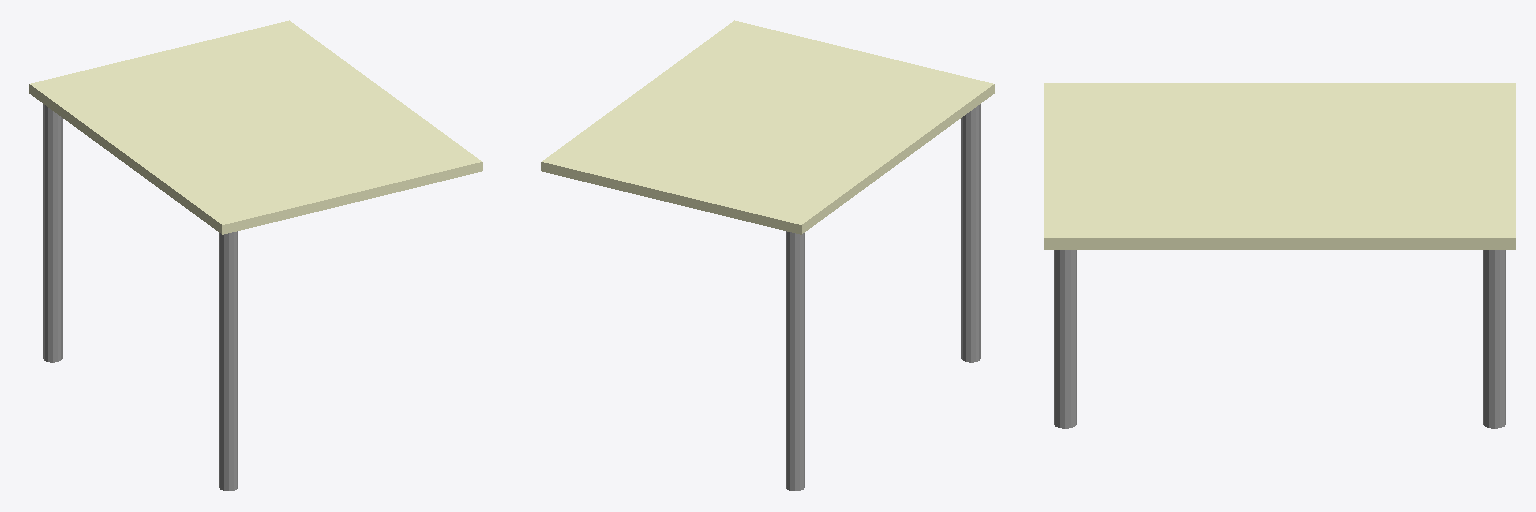
robot.urdf — room73b2-desk-2:
<?xml version="1.0"?>
<robot name="room73b2-desk-2"
       xmlns:xi="http://www.w3.org/2001/XInclude"
       xmlns:gazebo="http://playerstage.sourceforge.net/gazebo/xmlschema/#gz"
       xmlns:model="http://playerstage.sourceforge.net/gazebo/xmlschema/#model"
       xmlns:sensor="http://playerstage.sourceforge.net/gazebo/xmlschema/#sensor"
       xmlns:body="http://playerstage.sourceforge.net/gazebo/xmlschema/#body"
       xmlns:geom="http://playerstage.sourceforge.net/gazebo/xmlschema/#geom"
       xmlns:joint="http://playerstage.sourceforge.net/gazebo/xmlschema/#joint"
       xmlns:interface="http://playerstage.sourceforge.net/gazebo/xmlschema/#interface"
       xmlns:rendering="http://playerstage.sourceforge.net/gazebo/xmlschema/#rendering"
       xmlns:renderable="http://playerstage.sourceforge.net/gazebo/xmlschema/#renderable"
       xmlns:controller="http://playerstage.sourceforge.net/gazebo/xmlschema/#controller"
       xmlns:physics="http://playerstage.sourceforge.net/gazebo/xmlschema/#physics">
  <gazebo>
    <static>false</static>
  </gazebo>
  <link name="nil_link">
    <visual>
      <origin xyz="0 0 0" rpy="0 -0 0"/>
      <geometry>
        <mesh filename="model://room73b2-desk-2/meshes/nil_link_mesh.dae" scale="1 1 1" />
      </geometry>
    </visual>
    <collision>
      <origin xyz="0 0 0" rpy="0 -0 0"/>
      <geometry>
        <mesh filename="model://room73b2-desk-2/meshes/nil_link_mesh.dae" scale="1 1 1" />
      </geometry>
    </collision>
    <inertial>
      <mass value="0.001" />
      <origin xyz="0 0 0" rpy="0 -0 0"/>
      <inertia ixx="1e-09" ixy="0" ixz="0" iyy="1e-09" iyz="0" izz="1e-09"/>
    </inertial>
  </link>
  <gazebo reference="nil_link">
    <mu1>0.9</mu1>
    <mu2>0.9</mu2>
  </gazebo>
</robot>

--- What the picture shows (computed from the rendered views, not written in the file) ---
3 views of the same robot in one strip: view 1: azimuth 30°, elevation 25°; view 2: azimuth 150°, elevation 25°; view 3: azimuth 270°, elevation 25° (orthographic).
Model room73b2-desk-2 with 1 links and 0 joints (none), rooted at nil_link, posed every joint at zero.
Visible links, largest first — view 1: nil_link; view 2: nil_link; view 3: nil_link.
Link boxes in pixels (bbox=[...]): nil_link: bbox=[29, 20, 482, 490]; nil_link: bbox=[541, 20, 994, 490]; nil_link: bbox=[1044, 83, 1515, 428].
Bounding box of the posed robot: 0.7 × 0.9 × 0.7 m (x, y, z).
1 mesh visuals loaded from 1 distinct referenced files (1 Collada DAE).
